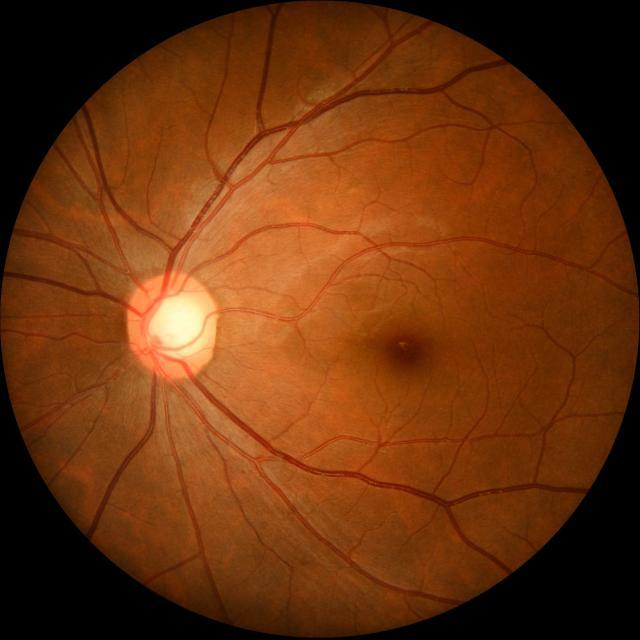OC: (146, 290, 209, 360)
OD: (126, 270, 220, 380)
